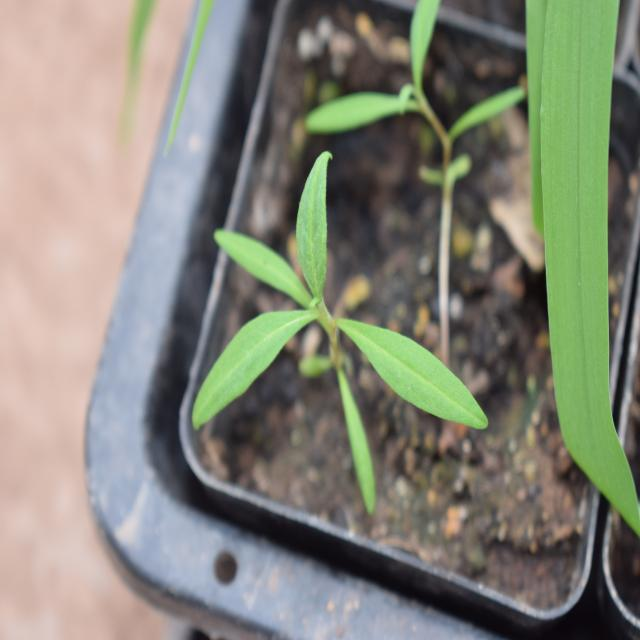white_smart_weed: (195, 154, 478, 484)
